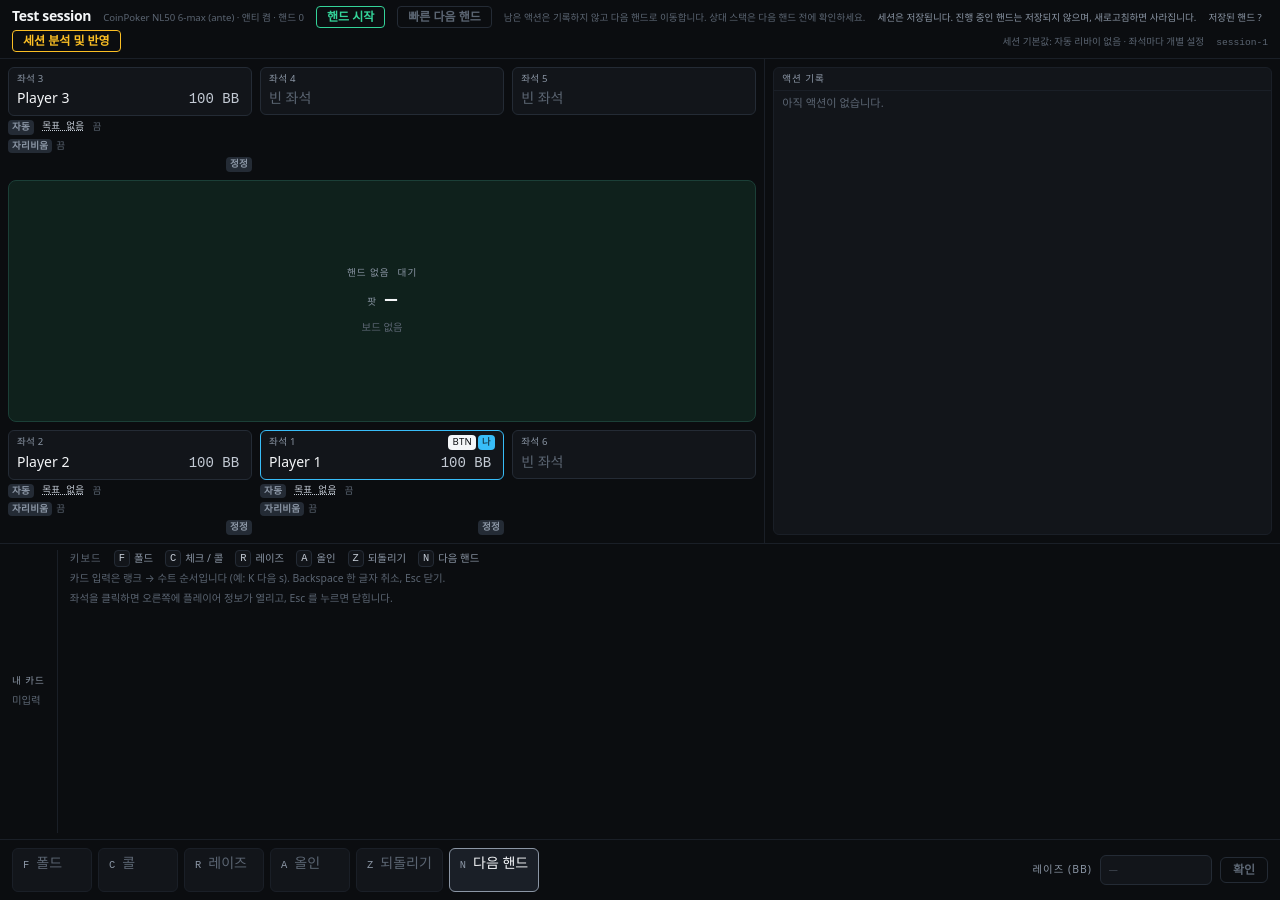
the analysis control inside the table › is disabled the moment a hand is dealt, and enabled again when it completes
What coordinates should you click on to do the following:
click the button with test id "start-hand"
I would click on:
 (351, 17)
Its box is 316,6 -> 385,28.
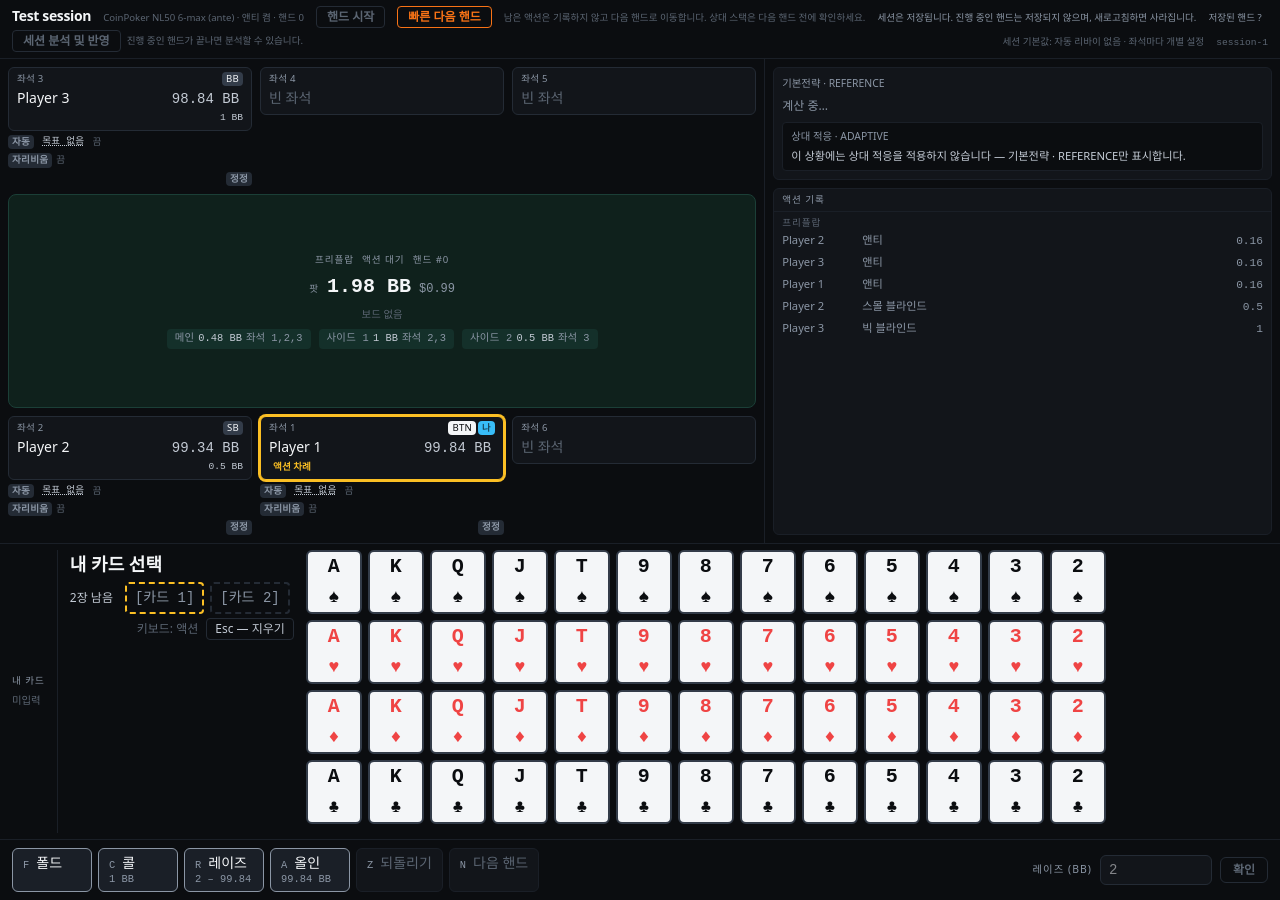
Check: the button with test id "run-analysis" is disabled, box 12,30 -> 121,52
Check: the text with test id "analysis-gate-reason" shows "진행 중인 핸드", box 127,34 -> 303,47
# Three-handed: two folds end the hand uncontested and it reaches COMPLETE.
What coordinates should you click on to do the following:
click the button with test id "dock-F"
I would click on:
 (52, 870)
Its box is 12,848 -> 92,892.
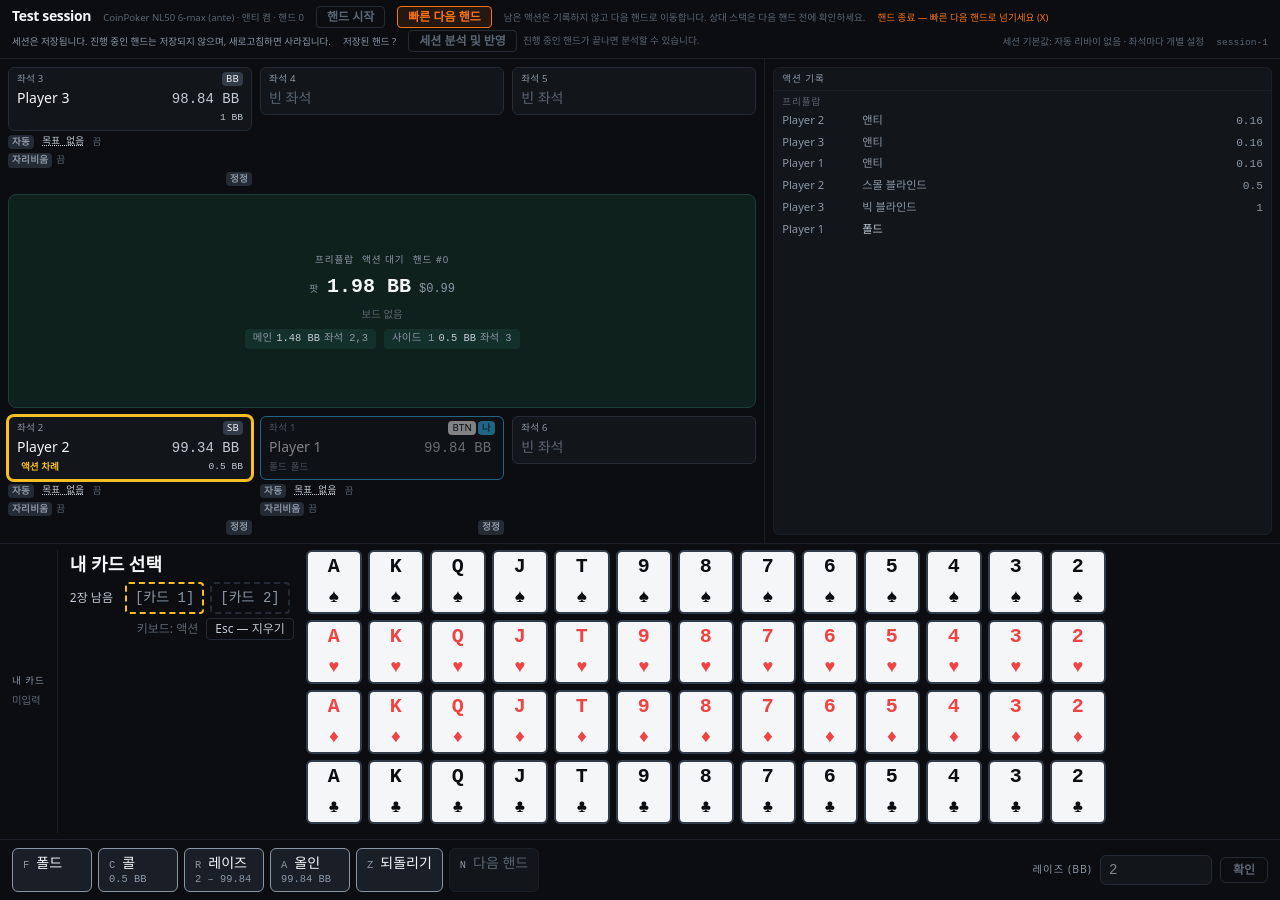
What coordinates should you click on to do the following:
click the button with test id "dock-F"
I would click on:
 (52, 870)
Its box is 12,848 -> 92,892.
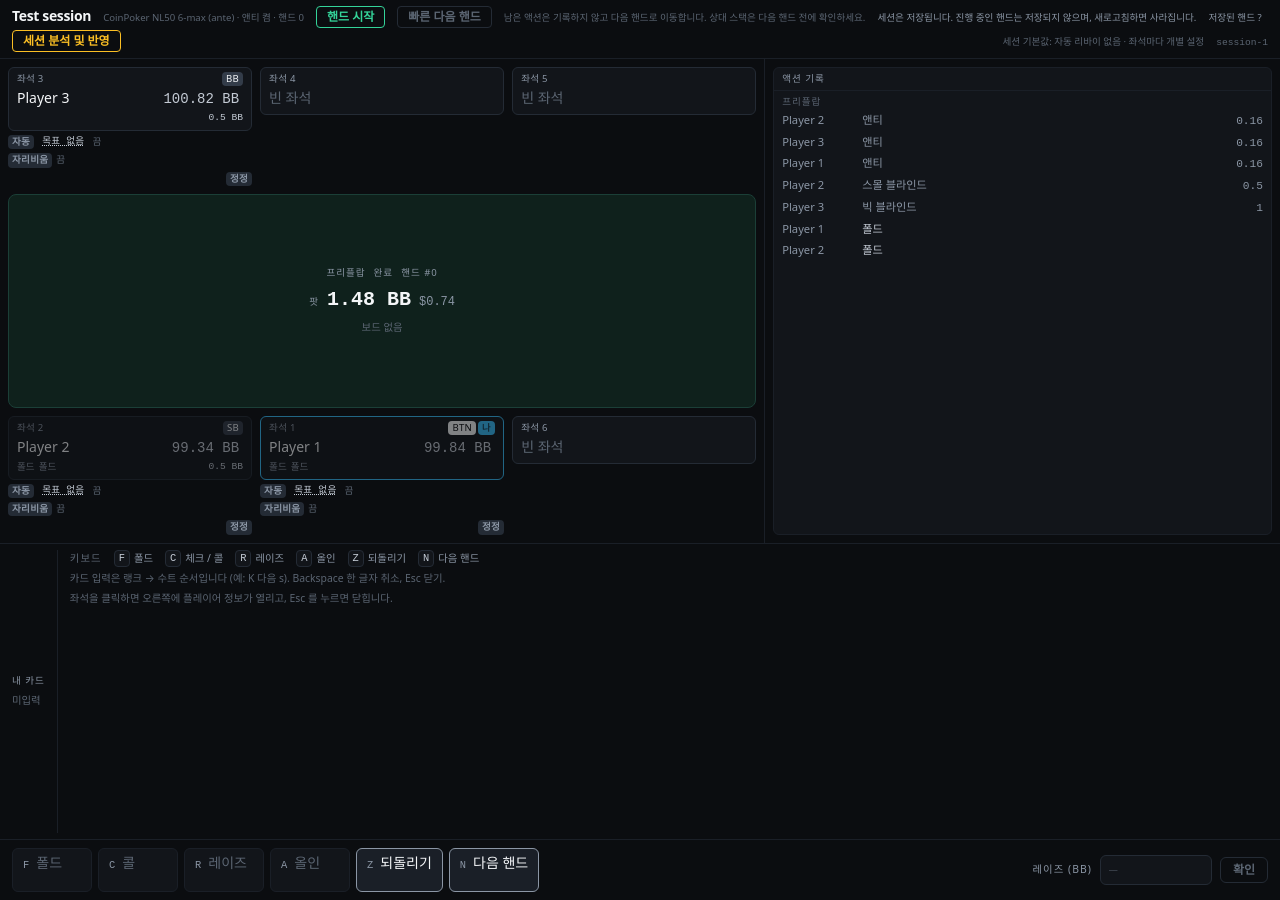
Check: the button with test id "run-analysis" is enabled, box 12,30 -> 121,52
